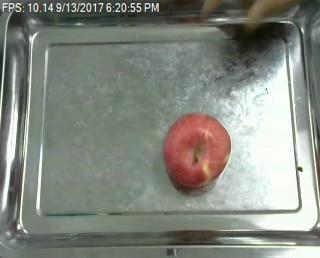apple: (162, 112, 232, 189)
